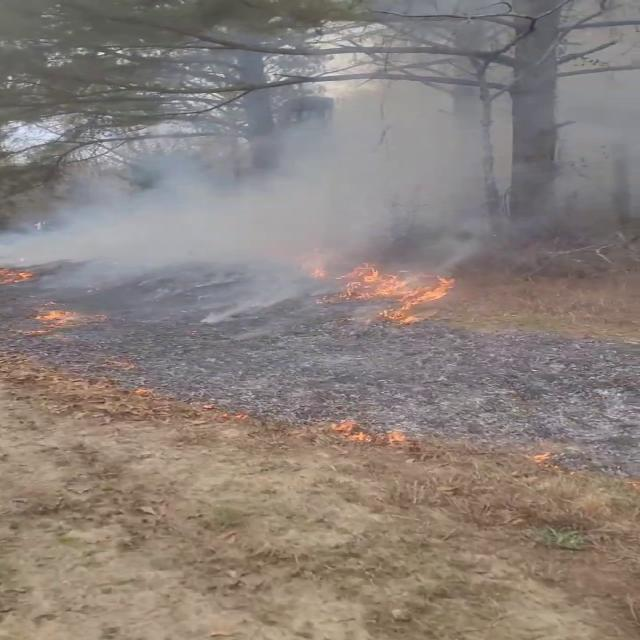Fire: (330, 256, 462, 324)
Smoke: (4, 11, 640, 280)
